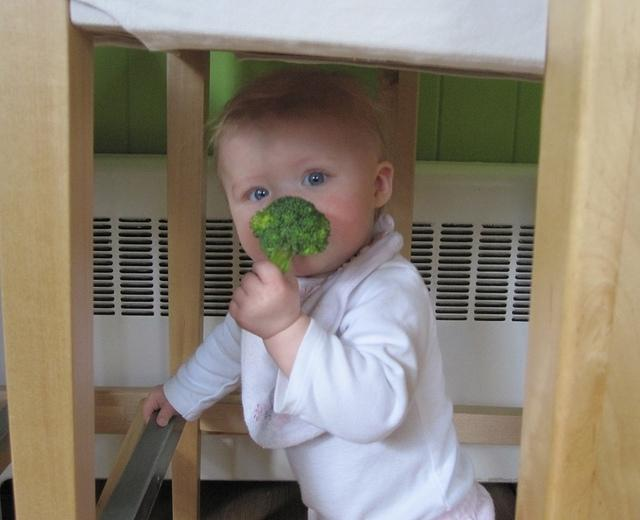broccoli: (250, 196, 330, 274)
